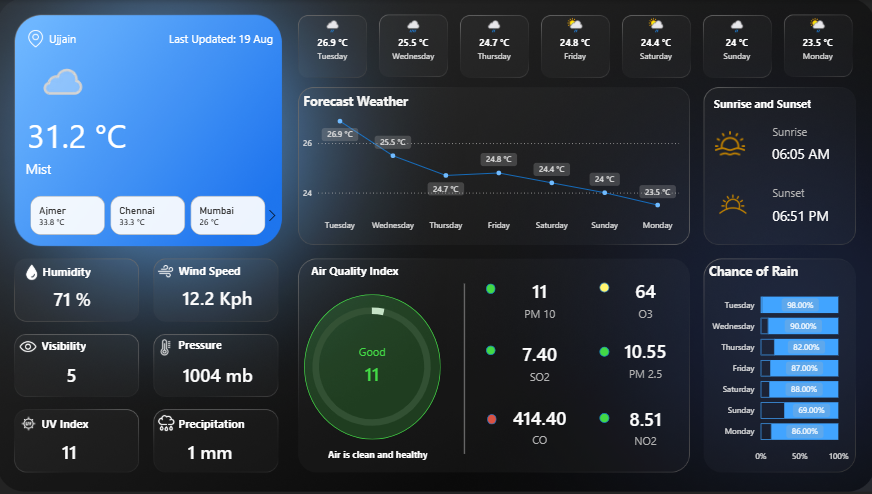

The dashboard page shown, as its layout file describes it:
{"tool":"powerbi","page":{"name":"Page 1","canvas":[1280,720],"ordinal":0},"visuals":[{"type":"donutChart","fields":{"Y":["Sum(Current.current.air_quality.pm10)","_Measures.Left_value_PM10"]},"box":[433.9,382.2,225.8,305.2],"z":0},{"type":"shape","box":[447.8,428.9,199.3,211.9],"z":1000},{"type":"advancedSlicerVisual","fields":{"Values":["Locations.location.name"]},"box":[23,280.8,393.4,67.8],"z":2000},{"type":"shape","box":[38.7,158.6,181.6,70.2],"z":3000},{"type":"shape","box":[38.7,228.8,289.3,32.7],"z":4000},{"type":"shape","box":[220.3,38.7,185.2,35.1],"z":5000},{"type":"shape","box":[73.8,41.2,128.3,32.7],"z":6000},{"type":"image","box":[38.7,38.7,35.1,35.1],"z":7000},{"type":"cardVisual","fields":{"Data":["Min(Current.current.condition.icon)"]},"box":[38.7,62.9,128.3,87.2],"z":8000},{"type":"image","box":[29.1,381.3,41.2,32.7],"z":9000},{"type":"image","box":[227.6,596.8,38.7,42.4],"z":10000},{"type":"image","box":[230,487.8,32.7,36.3],"z":11000},{"type":"image","box":[29.1,602.8,32.7,31.5],"z":12000},{"type":"image","box":[26.6,486.6,37.5,37.5],"z":13000},{"type":"image","box":[228.8,378.9,32.7,32.7],"z":14000},{"type":"shape","box":[64.2,381.3,127.1,32.7],"z":15000},{"type":"shape","box":[261.5,378.9,127.1,32.7],"z":16000},{"type":"shape","box":[61.7,487.8,127.1,32.7],"z":17000},{"type":"shape","box":[261.5,602.8,127.1,32.7],"z":18000},{"type":"shape","box":[61.7,601.6,127.1,32.7],"z":19000},{"type":"shape","box":[261.5,486.6,127.1,30.3],"z":20000},{"type":"card","fields":{"Values":["_Measures.Humidity"]},"box":[49.4,412.9,120.3,48.1],"z":21000},{"type":"card","fields":{"Values":["_Measures.Wind_Speed"]},"box":[244.6,415.6,153.7,42.8],"z":22000},{"type":"card","fields":{"Values":["_Measures.Pressure"]},"box":[261.1,522.2,123.6,51.7],"z":23000},{"type":"card","fields":{"Values":["_Measures.Precipitation"]},"box":[263.3,634.8,94.9,49.4],"z":24000},{"type":"card","fields":{"Values":["Sum(Current.current.uv)"]},"box":[72.2,637.5,68.2,44.1],"z":25000},{"type":"card","fields":{"Values":["Sum(Current.current.vis_km)"]},"box":[72.2,527.9,74.8,41.4],"z":26000},{"type":"advancedSlicerVisual","fields":{"Values":["Forecast_Day.Day_Name"]},"box":[428.6,16.9,832.5,89.6],"z":27000},{"type":"lineChart","title":"Forecast Weather","fields":{"Y":["Sum(Forecast_Day.forecast.forecastday.day.avgtemp_c)"],"Category":["Forecast_Day.Day_Name"]},"box":[441.7,134.6,558.1,213.1],"z":28000},{"type":"shape","box":[1042.2,130.7,187.6,39.9],"z":29000},{"type":"shape","box":[1128.2,176.7,127.1,32.7],"z":30000},{"type":"shape","box":[1128.2,209.4,93.2,27.8],"z":31000},{"type":"shape","box":[1128.2,297.8,108.9,32.7],"z":32000},{"type":"shape","box":[1128.2,265.1,127.1,32.7],"z":33000},{"type":"image","box":[1042.2,179.2,53.3,59.3],"z":34000},{"type":"image","box":[1042.2,261.5,61.7,71.4],"z":35000},{"type":"hundredPercentStackedBarChart","title":"Chance  of Rain","fields":{"Category":["Forecast_Day.Day_Name"],"Y":["_Measures.Left_Value_Rain","Sum(Forecast_Day.forecast.forecastday.day.daily_chance_of_rain)"]},"box":[1032.6,382.5,214.3,301.4],"z":36000},{"type":"shape","box":[455.1,378.9,185.2,32.7],"z":37000},{"type":"card","fields":{"Values":["Sum(Current.current.air_quality.pm10)"]},"box":[737.9,398.6,107.2,75.7],"z":38000},{"type":"card","fields":{"Values":["Sum(Current.current.air_quality.no2)"]},"box":[892.7,583.3,107.1,76.7],"z":39000},{"type":"card","fields":{"Values":["Sum(Current.current.air_quality.o3)"]},"box":[892.7,398.1,107.1,76.7],"z":40000},{"type":"card","fields":{"Values":["Sum(Current.current.air_quality.so2)"]},"box":[737.9,490.7,107.2,76.9],"z":41000},{"type":"card","fields":{"Values":["Sum(Current.current.air_quality.pm2_5)"]},"box":[892.7,485.4,107.1,76.7],"z":42000},{"type":"card","fields":{"Values":["Sum(Current.current.air_quality.co)"]},"box":[737.9,582.7,107.2,76.9],"z":43000},{"type":"shape","box":[712.7,413.7,13.9,15.1],"z":44000},{"type":"shape","box":[712.7,504.5,13.9,13.9],"z":45000},{"type":"shape","box":[713.9,604.2,13.9,15.1],"z":46000},{"type":"shape","box":[878.2,412.6,14.5,14.5],"z":47000},{"type":"shape","box":[878.2,505.2,14.5,14.5],"z":48000},{"type":"shape","box":[878.2,601.8,14.5,14.5],"z":49000},{"type":"shape","box":[671,413.7,21.4,248.5],"z":50000},{"type":"card","fields":{"Values":["Sum(Current.current.air_quality.pm10)"]},"box":[495.7,502,102.2,68.1],"z":51000},{"type":"shape","box":[407.4,645.8,296.4,32.8],"z":51001}]}

Visuals, with their boxes in screenshot pixels (x1, y1, x2, y2), scaled from the page's 1280x720 canvas onto the 872x494 screenshot:
donutChart - Sum(Current.current.air_quality.pm10) x _Measures.Left_value_PM10: x1=296 y1=262 x2=449 y2=472
shape: x1=305 y1=294 x2=441 y2=440
advancedSlicerVisual - Locations.location.name: x1=16 y1=193 x2=284 y2=239
shape: x1=26 y1=109 x2=150 y2=157
shape: x1=26 y1=157 x2=223 y2=179
shape: x1=150 y1=27 x2=276 y2=51
shape: x1=50 y1=28 x2=138 y2=51
image: x1=26 y1=27 x2=50 y2=51
cardVisual - Min(Current.current.condition.icon): x1=26 y1=43 x2=114 y2=103
image: x1=20 y1=262 x2=48 y2=284
image: x1=155 y1=409 x2=181 y2=439
image: x1=157 y1=335 x2=179 y2=360
image: x1=20 y1=414 x2=42 y2=435
image: x1=18 y1=334 x2=44 y2=360
image: x1=156 y1=260 x2=178 y2=282
shape: x1=44 y1=262 x2=130 y2=284
shape: x1=178 y1=260 x2=265 y2=282
shape: x1=42 y1=335 x2=129 y2=357
shape: x1=178 y1=414 x2=265 y2=436
shape: x1=42 y1=413 x2=129 y2=435
shape: x1=178 y1=334 x2=265 y2=355
card - _Measures.Humidity: x1=34 y1=283 x2=116 y2=316
card - _Measures.Wind_Speed: x1=167 y1=285 x2=271 y2=315
card - _Measures.Pressure: x1=178 y1=358 x2=262 y2=394
card - _Measures.Precipitation: x1=179 y1=436 x2=244 y2=469
card - Sum(Current.current.uv): x1=49 y1=437 x2=96 y2=468
card - Sum(Current.current.vis_km): x1=49 y1=362 x2=100 y2=391
advancedSlicerVisual - Forecast_Day.Day_Name: x1=292 y1=12 x2=859 y2=73
"Forecast Weather" lineChart: x1=301 y1=92 x2=681 y2=239
shape: x1=710 y1=90 x2=838 y2=117
shape: x1=769 y1=121 x2=855 y2=144
shape: x1=769 y1=144 x2=832 y2=163
shape: x1=769 y1=204 x2=843 y2=227
shape: x1=769 y1=182 x2=855 y2=204
image: x1=710 y1=123 x2=746 y2=164
image: x1=710 y1=179 x2=752 y2=228
"Chance  of Rain" hundredPercentStackedBarChart: x1=703 y1=262 x2=849 y2=469
shape: x1=310 y1=260 x2=436 y2=282
card - Sum(Current.current.air_quality.pm10): x1=503 y1=273 x2=576 y2=325
card - Sum(Current.current.air_quality.no2): x1=608 y1=400 x2=681 y2=453
card - Sum(Current.current.air_quality.o3): x1=608 y1=273 x2=681 y2=326
card - Sum(Current.current.air_quality.so2): x1=503 y1=337 x2=576 y2=389
card - Sum(Current.current.air_quality.pm2_5): x1=608 y1=333 x2=681 y2=386
card - Sum(Current.current.air_quality.co): x1=503 y1=400 x2=576 y2=453
shape: x1=486 y1=284 x2=495 y2=294
shape: x1=486 y1=346 x2=495 y2=356
shape: x1=486 y1=415 x2=496 y2=425
shape: x1=598 y1=283 x2=608 y2=293
shape: x1=598 y1=347 x2=608 y2=357
shape: x1=598 y1=413 x2=608 y2=423
shape: x1=457 y1=284 x2=472 y2=454
card - Sum(Current.current.air_quality.pm10): x1=338 y1=344 x2=407 y2=391
shape: x1=278 y1=443 x2=479 y2=466
